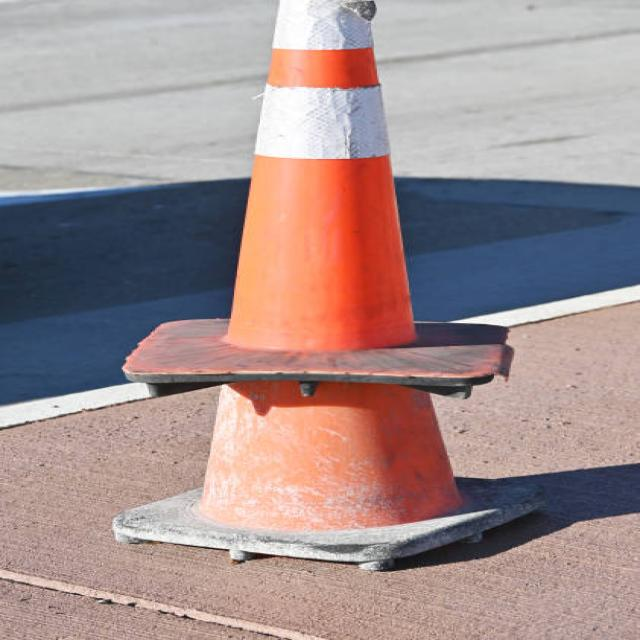Traffic Cone: (114, 0, 517, 461)
